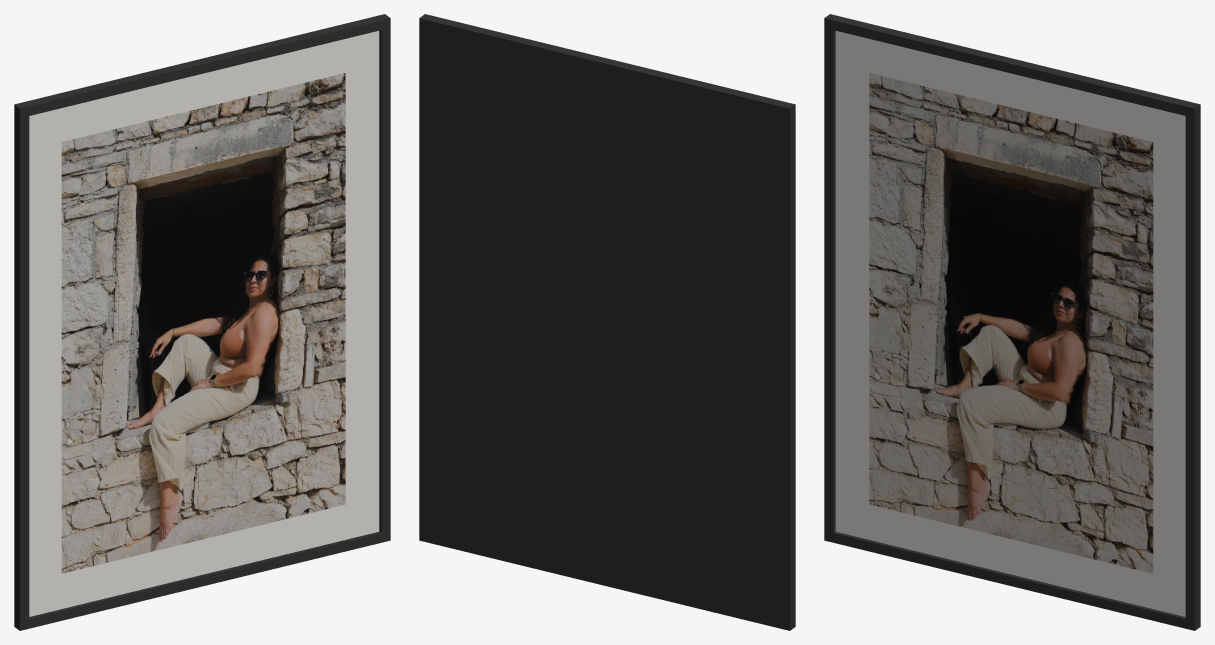
Rendered from i-fonstret-90.gltf.
3 views of the same model, side by side, from view 1: azimuth 30°, elevation 25°; view 2: azimuth 150°, elevation 25°; view 3: azimuth 330°, elevation 25° (orthographic).
Visible parts, largest first — view 1: tavla; view 2: tavla; view 3: tavla.
Part boxes in pixels (x1,y1,x2,y2): tavla: [14, 14, 390, 630]; tavla: [419, 14, 795, 630]; tavla: [824, 14, 1200, 630].
Size of the model in its own units: 0.8088 by 1.09 by 0.022.
3 materials, 1 textured.
